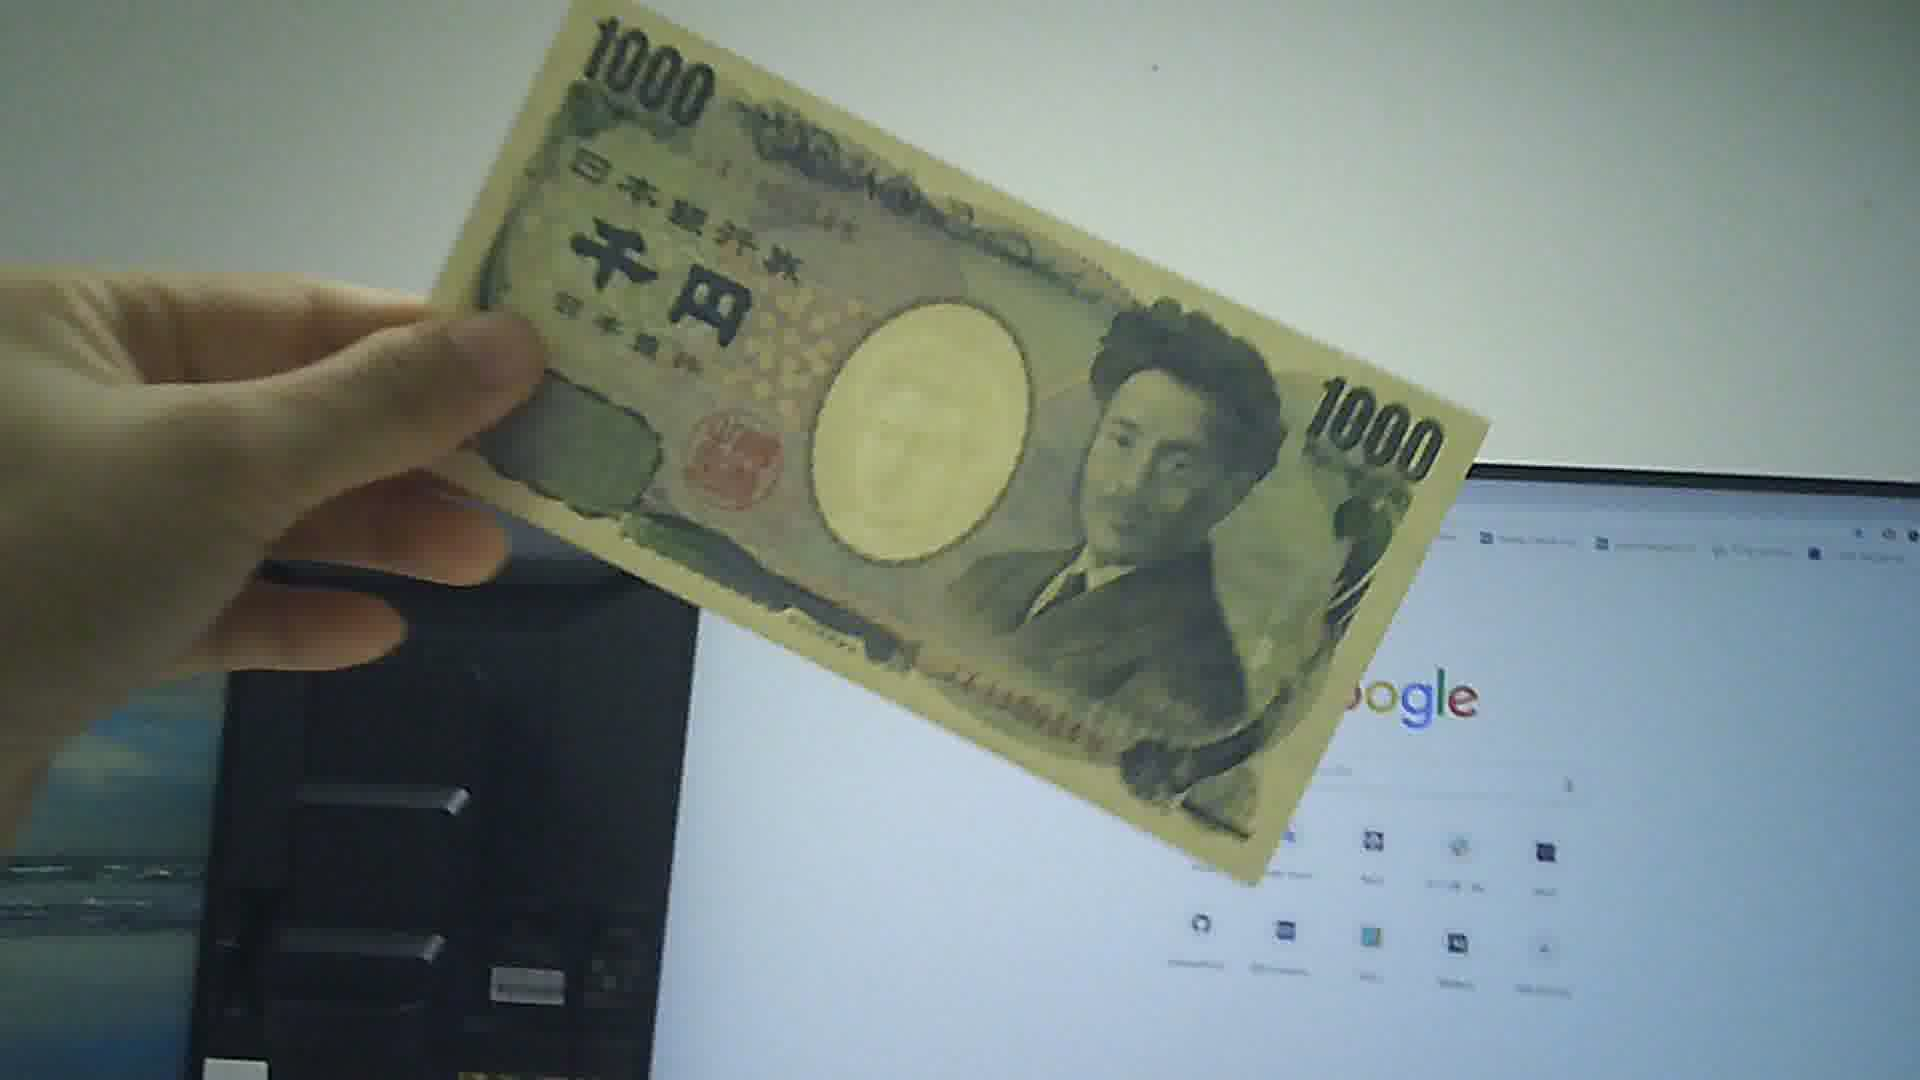1,000 Yen: (386, 5, 1489, 893)
